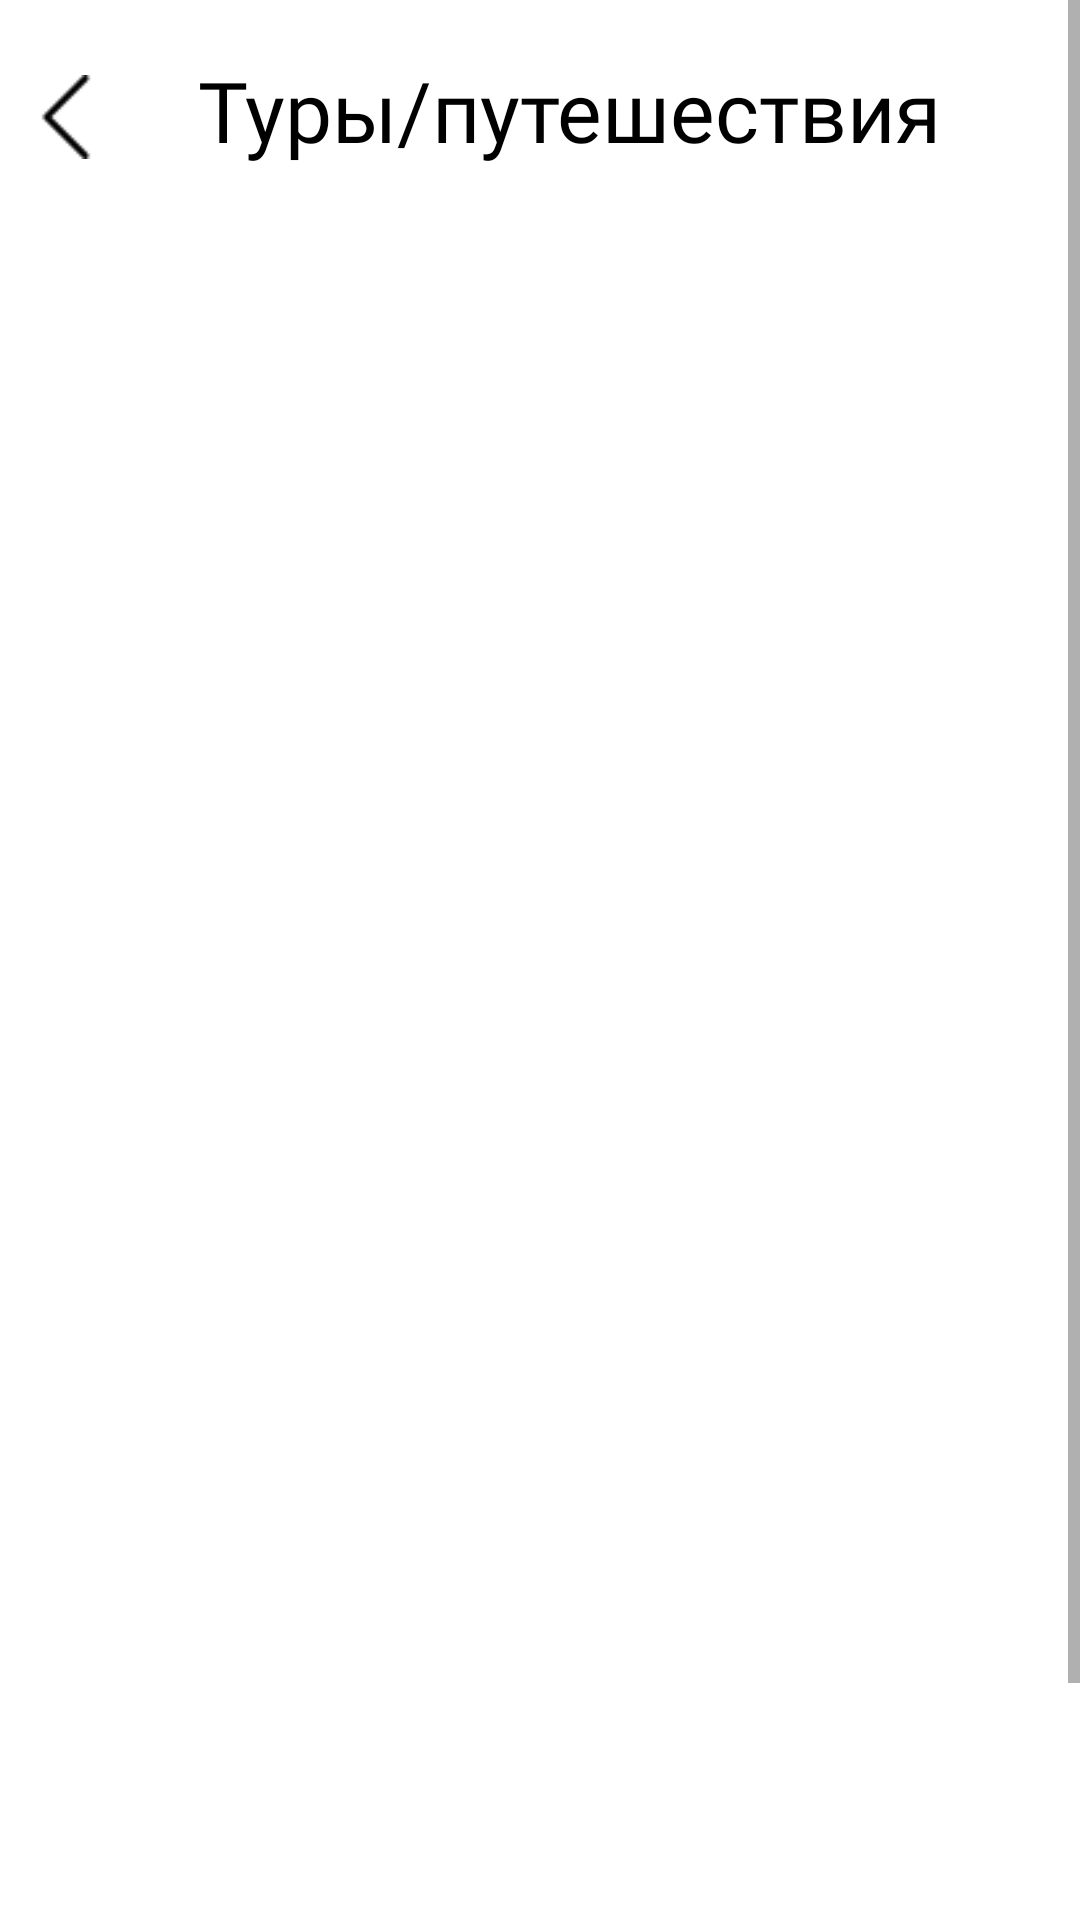

Screen size 1080px x 1920px. Icon name, then its center in pixels as (x,y):
left arrow: (66,117)
